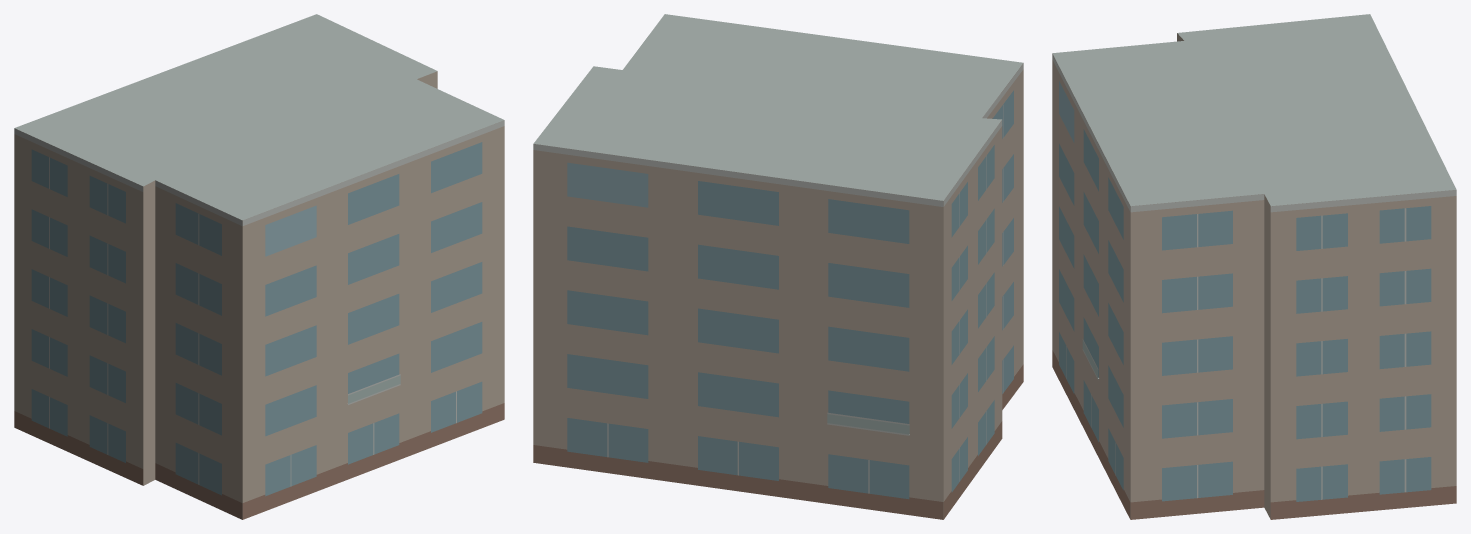
File: survey-upis-32469141.glb
3 renders of one model, left to right at view 1: azimuth 30°, elevation 25°; view 2: azimuth 150°, elevation 25°; view 3: azimuth 270°, elevation 25°, orthographic. The views are drawn at different scales.
Parts seen in each view (by area): view 1: survey-upis-32469141.tmp; view 2: survey-upis-32469141.tmp; view 3: survey-upis-32469141.tmp.
Boxes of the visible parts, x1,y1,x2,y2 form: survey-upis-32469141.tmp: [14, 14, 504, 519]; survey-upis-32469141.tmp: [533, 14, 1023, 519]; survey-upis-32469141.tmp: [1052, 14, 1456, 519].
Bounding box in the file's own units: 16.44 × 12.5 × 14.61.
